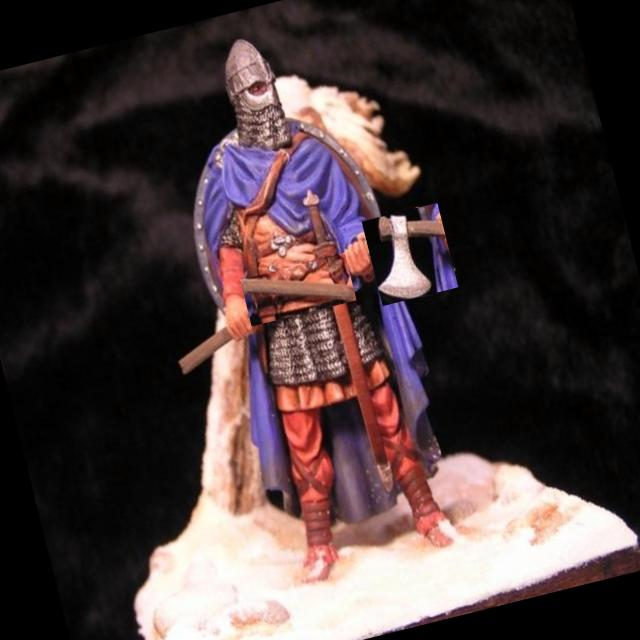Axe: (378, 215, 444, 299), (241, 277, 354, 301), (180, 328, 231, 373)
